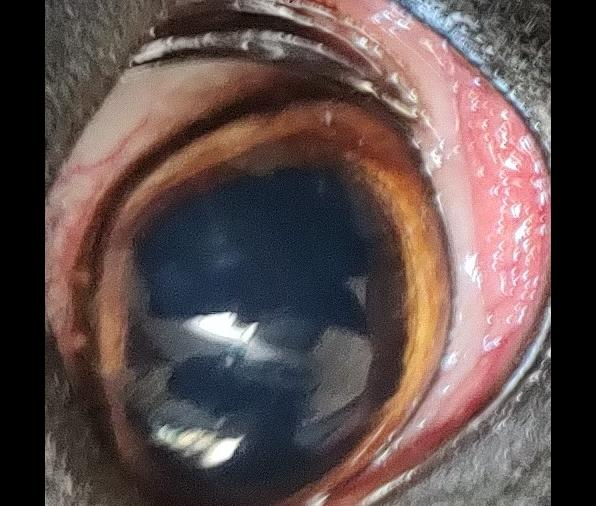eye_membrane: (303, 0, 549, 506)
